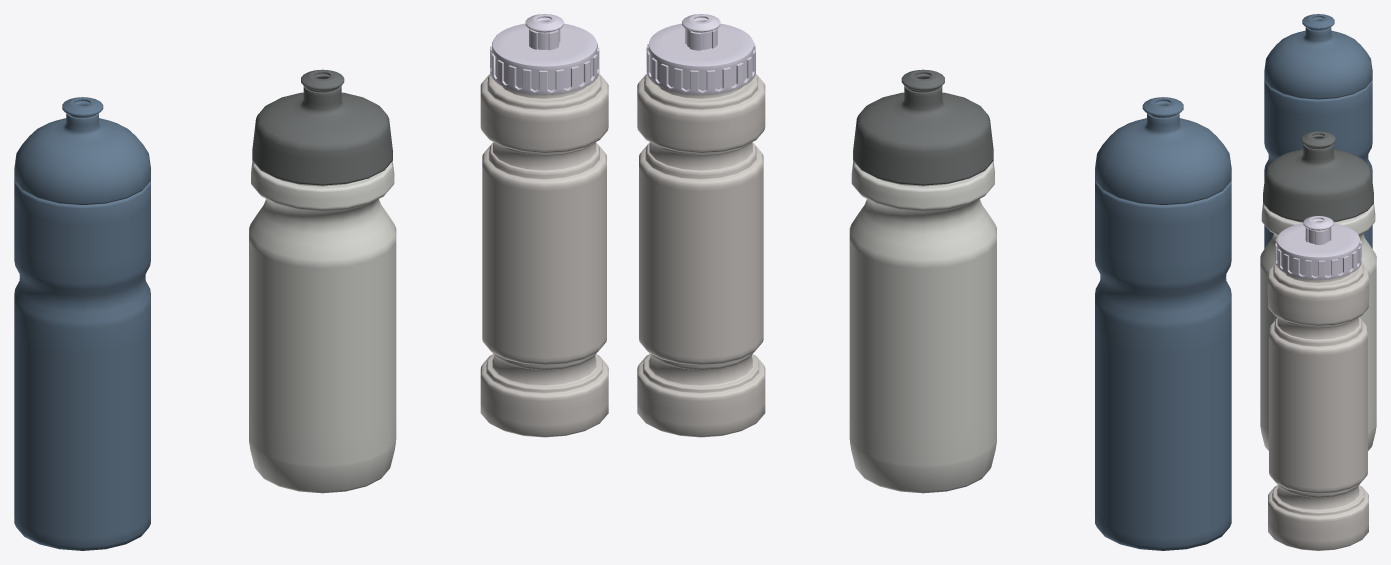
The model's file is sports_bottles.fbx.
3 views of the same model, side by side, from view 1: azimuth 30°, elevation 25°; view 2: azimuth 150°, elevation 25°; view 3: azimuth 270°, elevation 25° (orthographic). The views are drawn at different scales.
Visible parts, largest first — view 1: part3_2, part2_2, bottle3; view 2: part3_2, part2_2, bottle3; view 3: bottle3, part3_2, part2_2.
Boxes of the visible parts, bbox=[...] form: part3_2: bbox=[14, 97, 150, 550]; part2_2: bbox=[249, 69, 396, 493]; bottle3: bbox=[480, 14, 608, 437]; part3_2: bbox=[1095, 97, 1231, 550]; part2_2: bbox=[849, 69, 996, 493]; bottle3: bbox=[637, 14, 765, 437]; bottle3: bbox=[1267, 216, 1369, 550]; part3_2: bbox=[1264, 14, 1372, 248]; part2_2: bbox=[1260, 131, 1376, 450].
Size of the model in its own units: 7.51 by 5.23 by 1.65.
